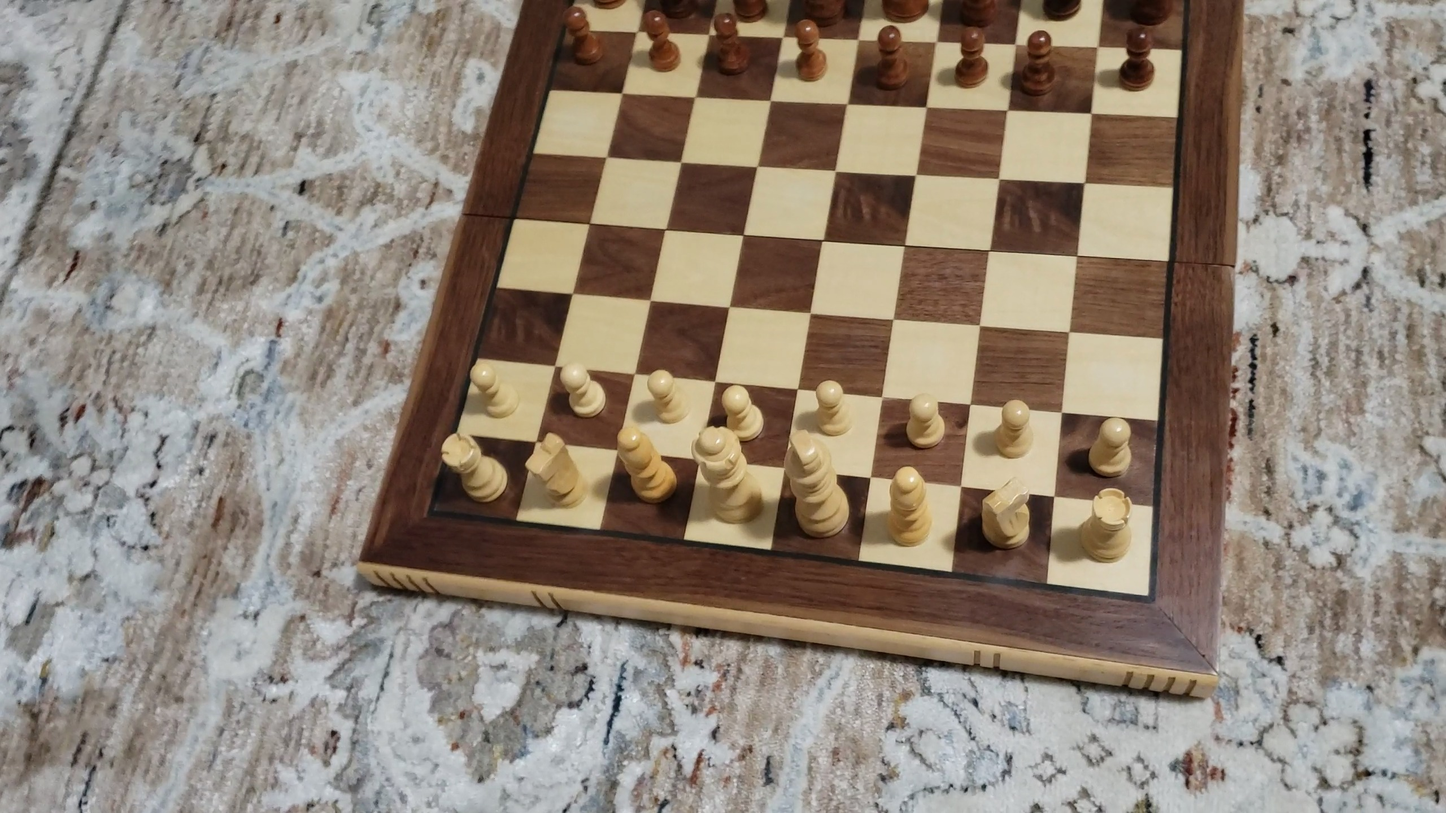black-pawn: (1018, 28, 1057, 97), (560, 4, 602, 67), (711, 8, 748, 76), (1117, 28, 1156, 92), (873, 23, 909, 91), (643, 7, 680, 73), (794, 16, 826, 83), (956, 26, 988, 89)
white-bishop: (613, 427, 680, 508), (884, 464, 935, 550)
white-king: (783, 426, 852, 541)
white-knight: (522, 431, 590, 512), (977, 470, 1035, 554)
white-pawn: (1086, 413, 1138, 480), (465, 360, 522, 421), (555, 361, 608, 420), (991, 395, 1036, 461), (719, 382, 765, 442), (902, 391, 947, 452), (811, 377, 853, 438), (644, 366, 686, 426)
white-queen: (690, 425, 770, 529)
white-rook: (439, 431, 511, 505), (1078, 484, 1137, 566)
